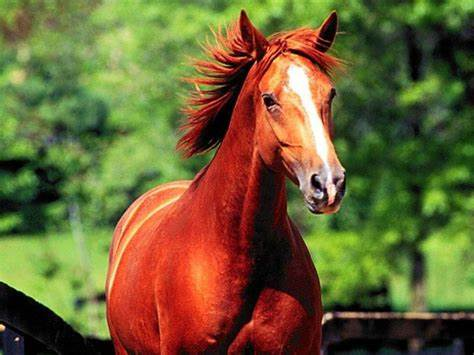horse: (102, 7, 350, 354)
